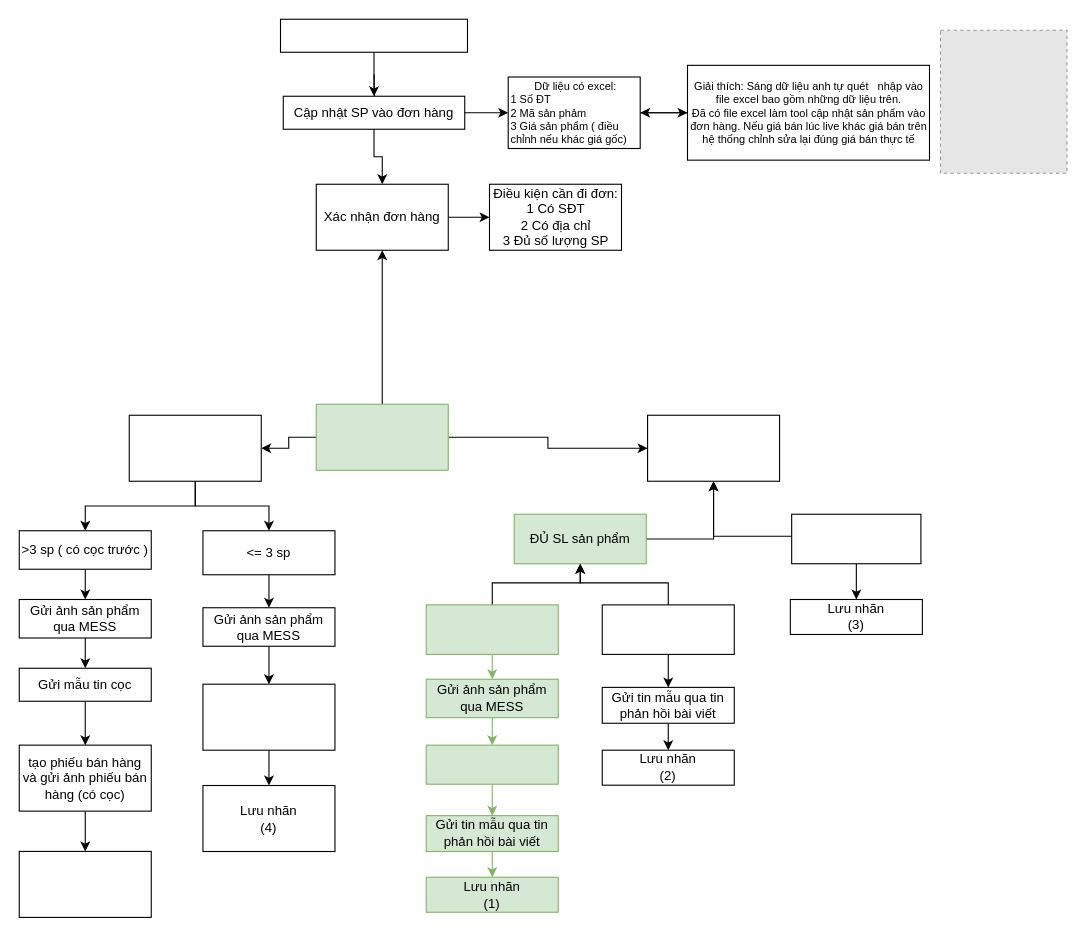
This 1087x937 diagram has some shape labels left out. Grey dashed boxes stand in for pictures. The box of each missing label's shape, as (x1, y1, x2, y2) in pixels:
Gửi tin mẫu xin địa chỉ: (425, 744, 558, 784)
Không nhắn được: (601, 604, 734, 654)
Không Đủ SL sản phảm: (791, 513, 921, 564)
Không đủ điều kiện: (646, 414, 780, 481)
Lưu nhãn (5): (18, 850, 151, 917)
Nhắn được: (425, 604, 558, 654)
QUY TRÌNH CHỐT ĐƠN: (279, 18, 468, 52)
tạo phiếu bán hàng và gửi ảnh phiếu bán hàng: (202, 683, 335, 750)
ĐỊA CHỈ: (315, 403, 448, 470)
Đủ điều kiện: (128, 414, 261, 481)
